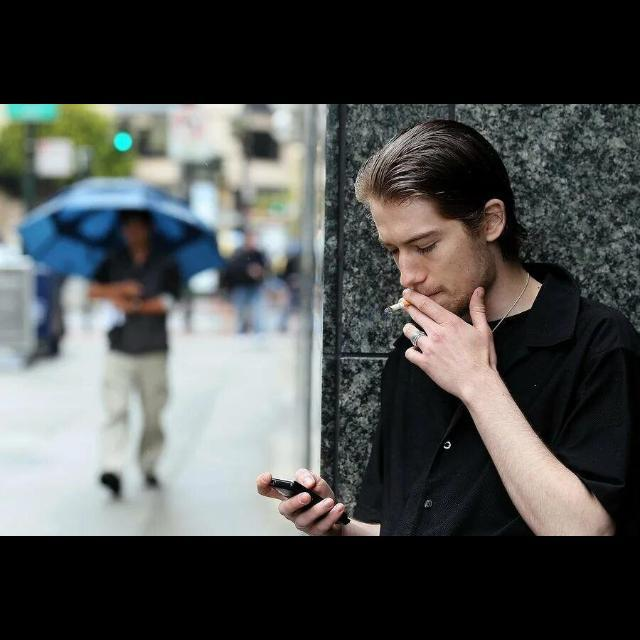rokok: (382, 300, 408, 316)
